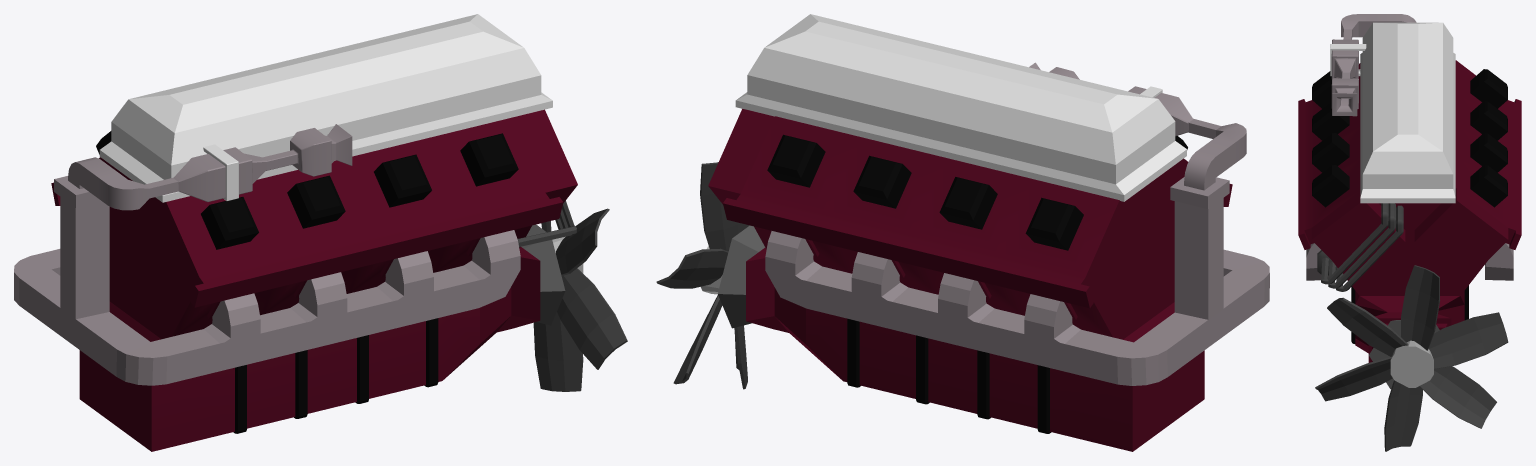
The model's file is MOTOR.fbx.
The picture shows the model from 3 angles, left to right: view 1: azimuth 30°, elevation 25°; view 2: azimuth 150°, elevation 25°; view 3: azimuth 270°, elevation 25°; orthographic projection. The views are drawn at different scales.
Parts seen in each view (by area): view 1: Cube, Cube.008, Cube.002, Plane, Plane.001, Cube.007, Plane.002, Plane.003, Cylinder, Cube.009, Cube.003; view 2: Cube, Cube.008, Cube.002, Plane, Plane.001, Cube.007, Cylinder, Plane.002; view 3: Cube, Cube.008, Plane, Cube.003, Cube.002, Plane.003, Plane.001, Plane.002, Cylinder, Cube.009, Cube.007.
Boxes of the visible parts, <box> form: Cube: <box>51,109,577,451</box>; Cube.008: <box>99,14,552,202</box>; Cube.002: <box>14,197,520,385</box>; Plane: <box>533,208,627,391</box>; Plane.001: <box>54,157,178,210</box>; Cube.007: <box>233,318,438,433</box>; Plane.002: <box>173,147,266,201</box>; Plane.003: <box>263,124,352,176</box>; Cylinder: <box>521,224,565,325</box>; Cube.009: <box>203,144,238,200</box>; Cube.003: <box>517,200,576,246</box>; Cube: <box>708,108,1232,451</box>; Cube.008: <box>735,14,1186,201</box>; Cube.002: <box>765,198,1269,385</box>; Plane: <box>656,162,749,389</box>; Plane.001: <box>1170,118,1246,208</box>; Cube.007: <box>847,318,1051,433</box>; Cylinder: <box>717,225,765,328</box>; Plane.002: <box>1128,86,1192,136</box>; Cube: <box>1298,60,1521,362</box>; Cube.008: <box>1360,22,1455,203</box>; Plane: <box>1315,265,1508,451</box>; Cube.003: <box>1317,203,1403,291</box>; Cube.002: <box>1306,243,1513,280</box>; Plane.003: <box>1331,72,1358,116</box>; Plane.001: <box>1341,14,1416,39</box>; Plane.002: <box>1331,39,1358,78</box>; Cylinder: <box>1369,320,1439,389</box>; Cube.009: <box>1330,44,1366,76</box>; Cube.007: <box>1351,285,1468,343</box>.
Size of the model in its own units: 309 by 222 by 156.
